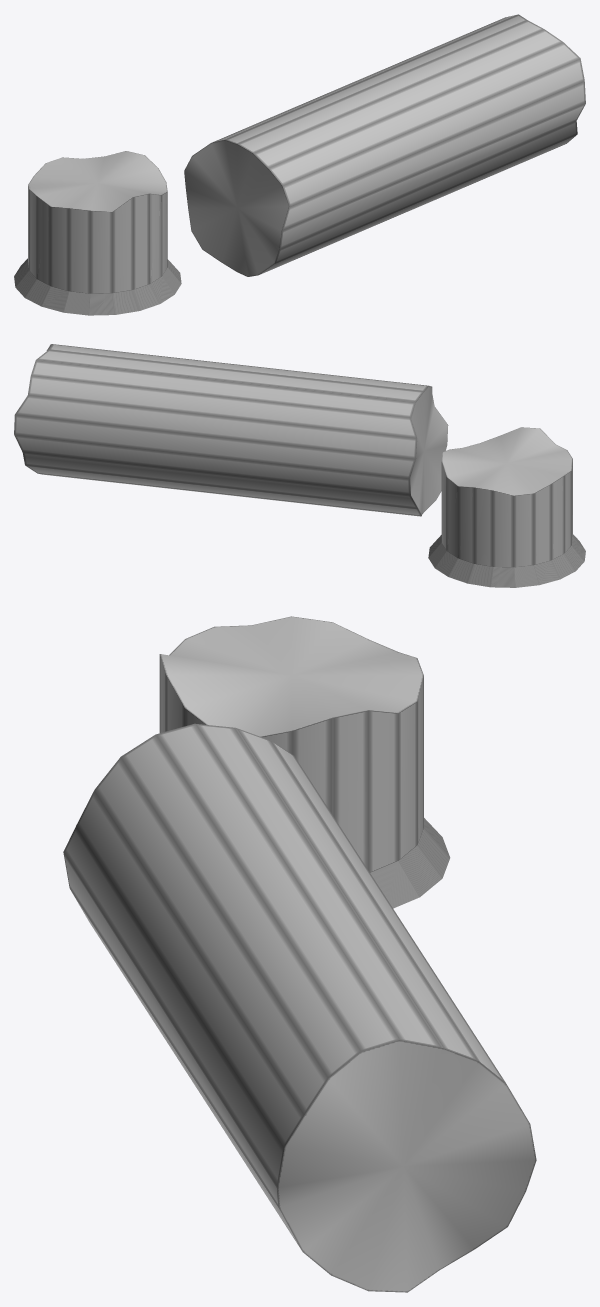
The model's file is Pillar.fbx.
3 views of the same model, one above another, from view 1: azimuth 30°, elevation 25°; view 2: azimuth 150°, elevation 25°; view 3: azimuth 270°, elevation 25° (orthographic). The views are drawn at different scales.
Visible parts, largest first — view 1: Pillar; view 2: Pillar; view 3: Pillar.
Part boxes in pixels (left/top/right/bottom): Pillar: left=14, top=14, right=585, bottom=315; Pillar: left=14, top=344, right=585, bottom=587; Pillar: left=63, top=616, right=536, bottom=1292.
Size of the model in its own units: 9.2 by 2 by 3.58.
